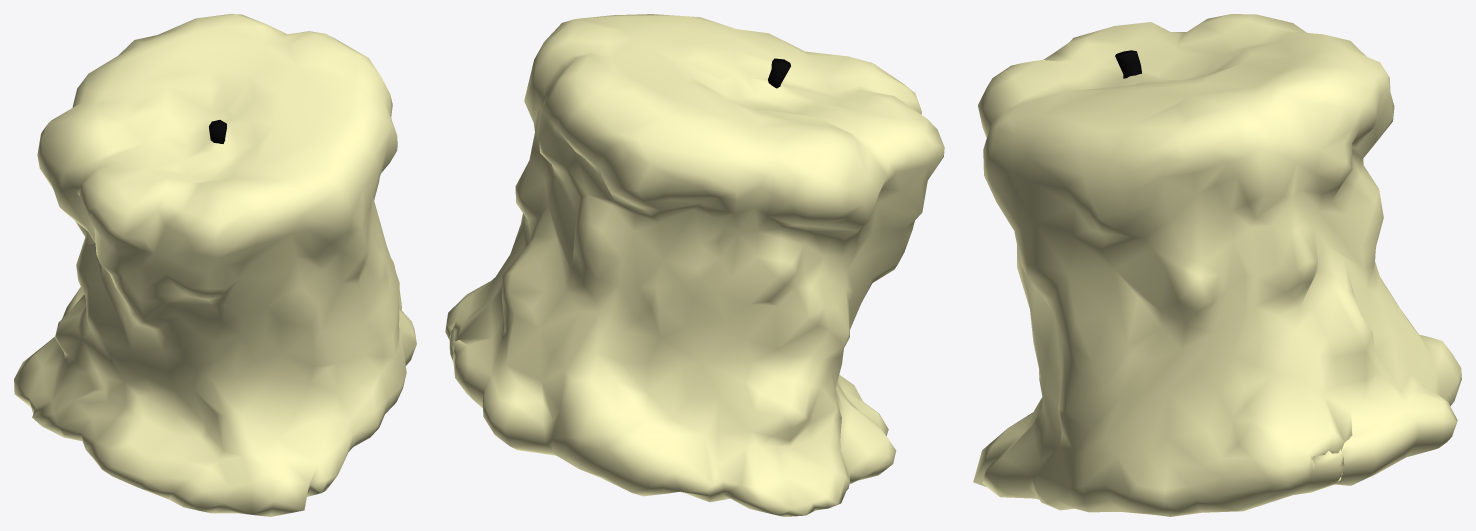
The model's file is IDVcandle1.obj.
3 views of the same model, side by side, from view 1: azimuth 30°, elevation 25°; view 2: azimuth 150°, elevation 25°; view 3: azimuth 270°, elevation 25° (orthographic). The views are drawn at different scales.
Visible parts, largest first — view 1: CANDLEBIG1.028; view 2: CANDLEBIG1.028; view 3: CANDLEBIG1.028.
Boxes of the visible parts, box(x1,y1,x2,y2) form: CANDLEBIG1.028: box(14, 14, 416, 516); CANDLEBIG1.028: box(445, 14, 944, 516); CANDLEBIG1.028: box(973, 14, 1461, 516).
Bounding box in the file's own units: 3.88 × 3.9 × 3.74.
